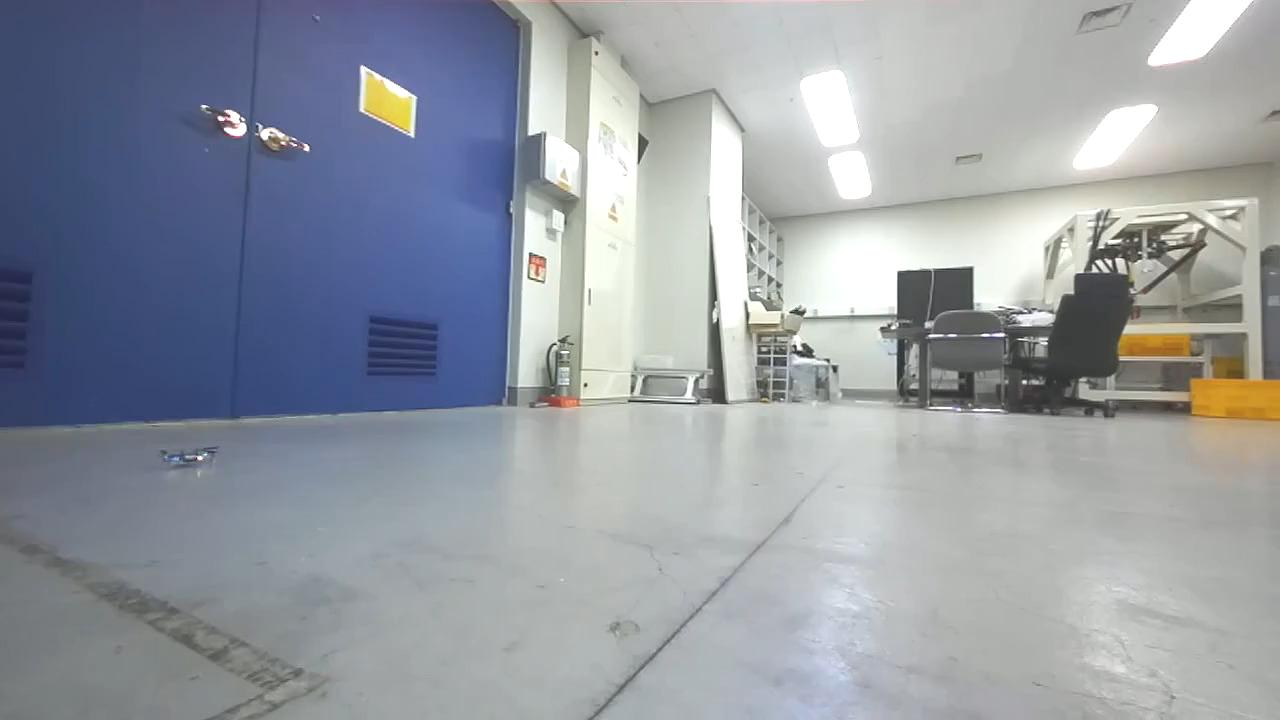crazyflie: (155, 441, 217, 473)
